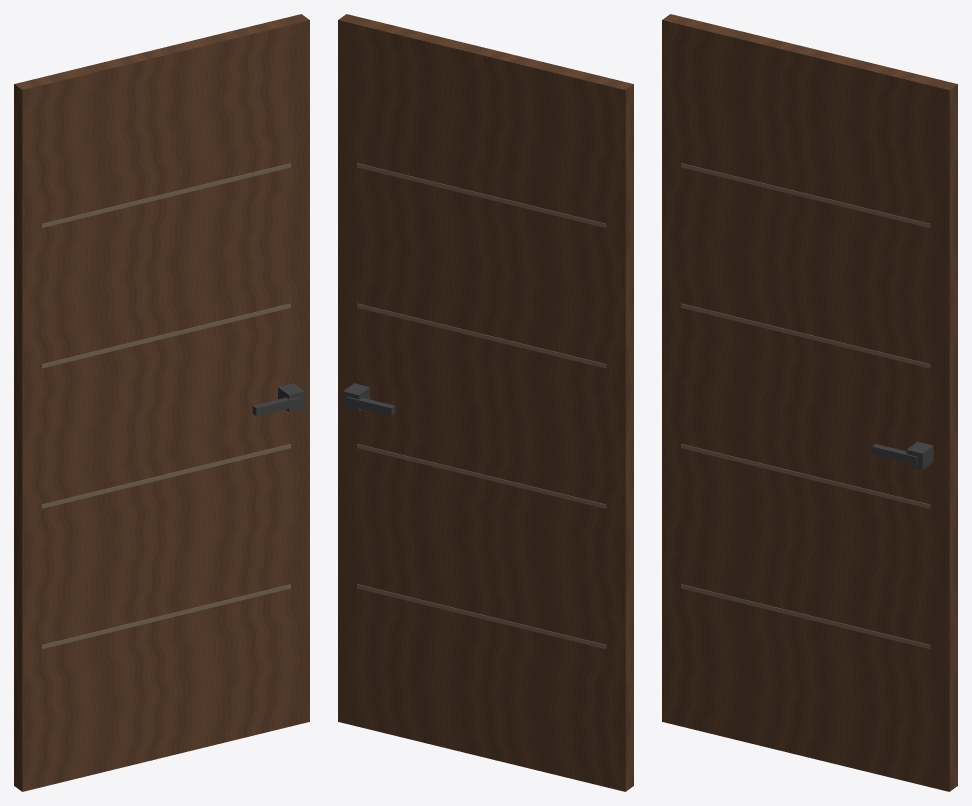
The model's file is mlo_door_walnut_grooved.glb.
The picture shows the model from 3 angles, left to right: view 1: azimuth 30°, elevation 25°; view 2: azimuth 150°, elevation 25°; view 3: azimuth 330°, elevation 25°; orthographic projection.
Visible parts, largest first — view 1: Door_Walnut_Grooved; view 2: Door_Walnut_Grooved; view 3: Door_Walnut_Grooved.
Boxes of the visible parts, bbox=[...] form: Door_Walnut_Grooved: bbox=[14, 14, 309, 791]; Door_Walnut_Grooved: bbox=[338, 14, 633, 791]; Door_Walnut_Grooved: bbox=[662, 14, 957, 791].
Bounding box in the file's own units: 0.9 × 2.1 × 0.175.
3 materials, 1 textured.
